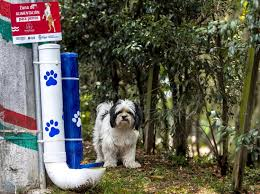dog: (84, 94, 147, 174)
